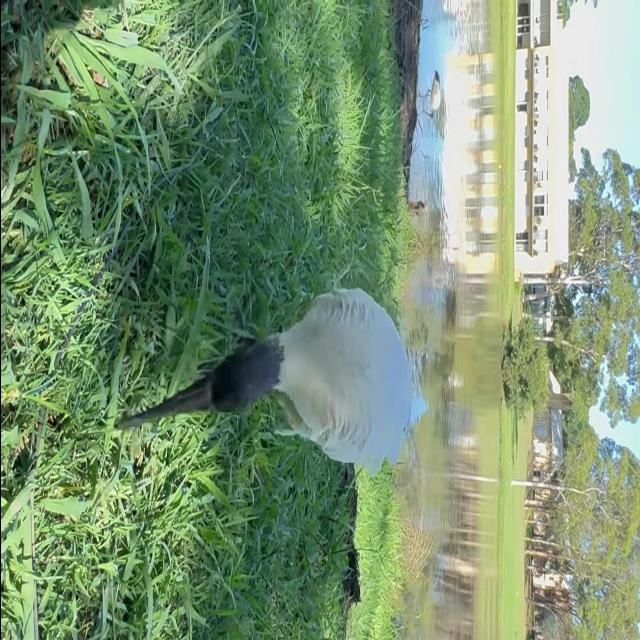Birds-Ibis: (110, 282, 414, 476), (418, 68, 441, 120)
Birds-Other: (412, 198, 430, 224)
